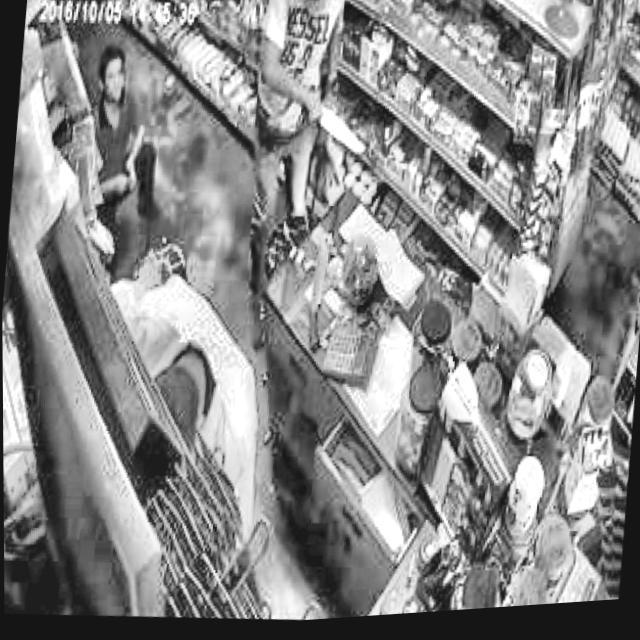Weapon: (131, 242, 332, 524), (78, 29, 234, 285), (249, 0, 403, 252)
